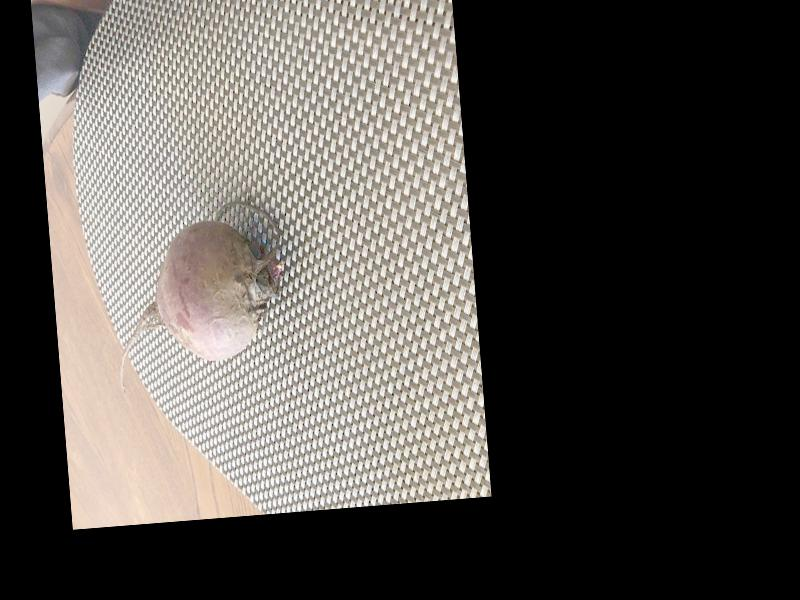Beet: (107, 196, 292, 391)
